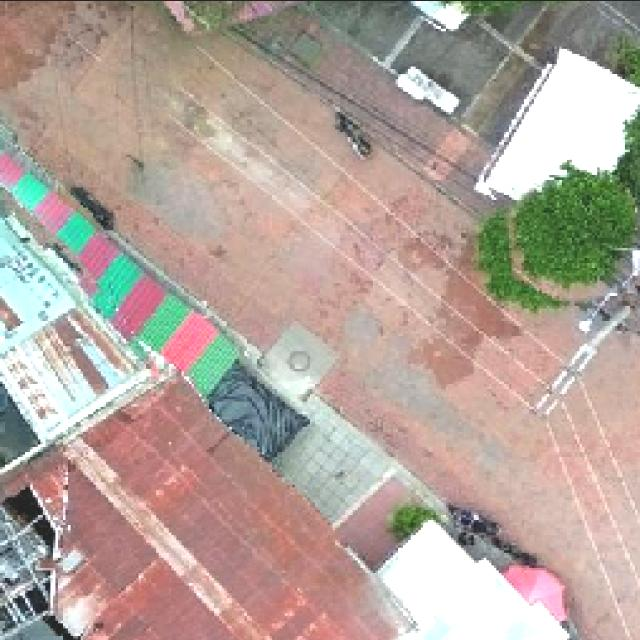vendedor_ambulante: (498, 560, 574, 622)
